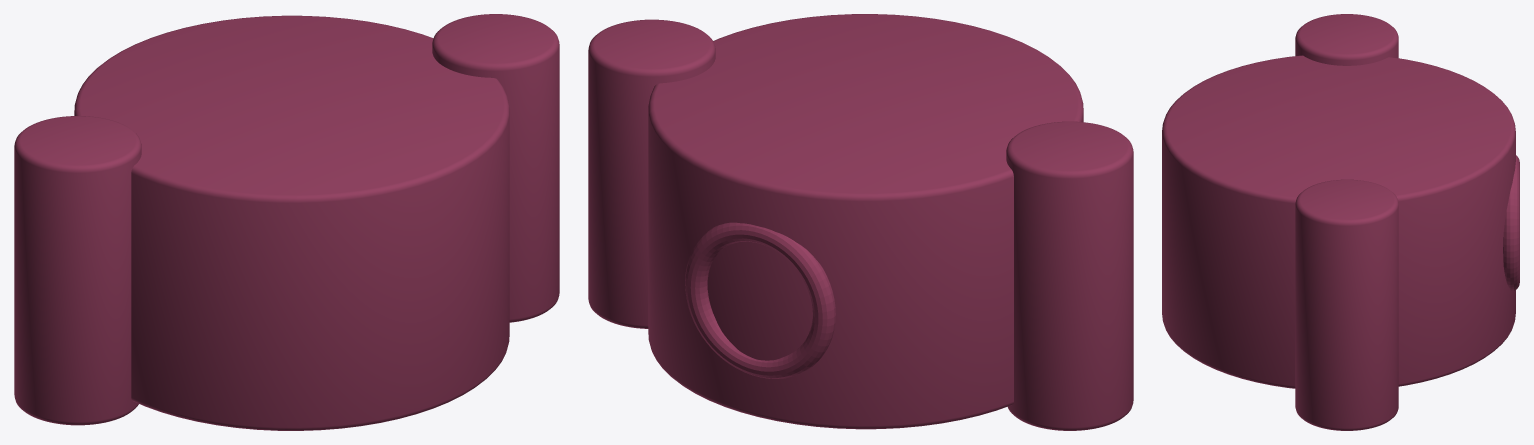
The model's file is top.glb.
3 renders of one model, left to right at view 1: azimuth 30°, elevation 25°; view 2: azimuth 150°, elevation 25°; view 3: azimuth 270°, elevation 25°, orthographic. The views are drawn at different scales.
Parts seen in each view (by area): view 1: IMPAR_TOP_PROXY; view 2: IMPAR_TOP_PROXY; view 3: IMPAR_TOP_PROXY.
Part boxes in pixels (x1,y1,x2,y2): IMPAR_TOP_PROXY: (14, 14, 559, 430); IMPAR_TOP_PROXY: (588, 14, 1133, 430); IMPAR_TOP_PROXY: (1162, 14, 1519, 430).
Size of the model in its own units: 1.82 by 0.855 by 1.31.
